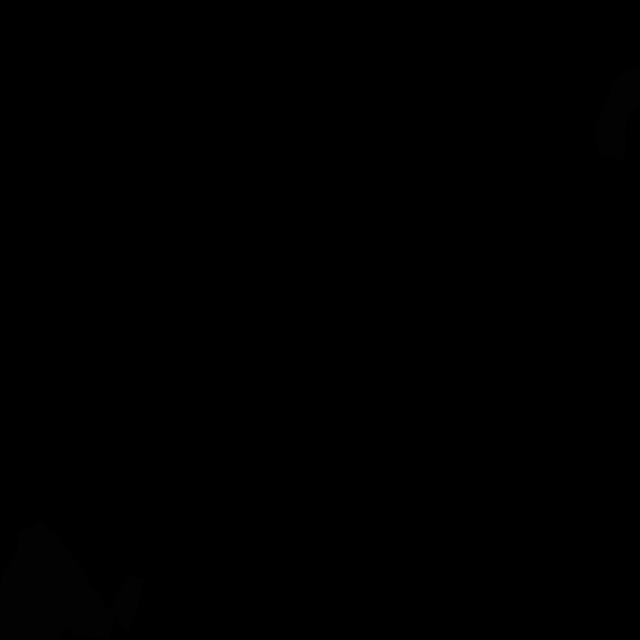cardboard: (0, 518, 144, 640), (596, 65, 640, 160)
